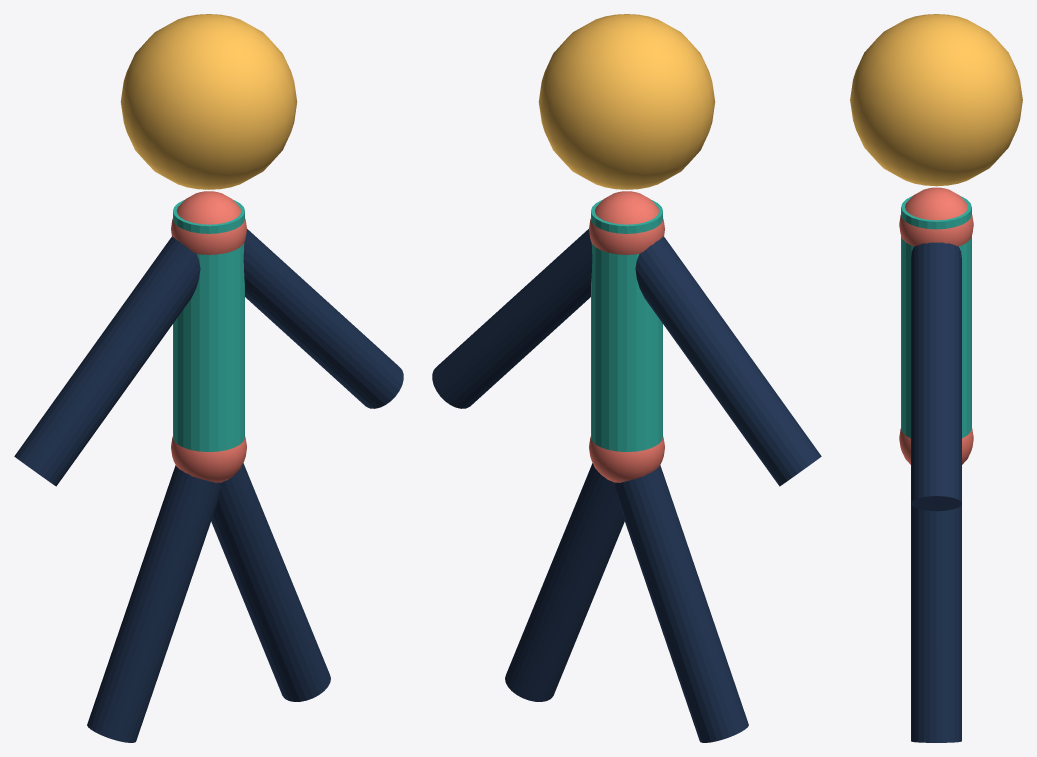
File: EDU009.glb
The picture shows the model from 3 angles, left to right: view 1: azimuth 30°, elevation 25°; view 2: azimuth 150°, elevation 25°; view 3: azimuth 270°, elevation 25°; orthographic projection. The views are drawn at different scales.
Parts seen in each view (by area): view 1: Head, L_Leg, L_Arm, Torso, R_Leg, R_Arm, L_Arm_joint, L_Leg_joint; view 2: Head, L_Leg, L_Arm, Torso, R_Leg, R_Arm, L_Arm_joint, L_Leg_joint; view 3: Head, R_Arm, R_Leg, Torso, L_Arm_joint, L_Leg_joint.
Part boxes in pixels (<box>): Head: <box>120,14,297,189</box>; L_Leg: <box>87,465,220,742</box>; L_Arm: <box>14,236,200,486</box>; Torso: <box>173,200,244,451</box>; R_Leg: <box>211,463,330,701</box>; R_Arm: <box>243,229,403,408</box>; L_Arm_joint: <box>171,191,246,254</box>; L_Leg_joint: <box>171,436,246,482</box>; Head: <box>538,14,715,189</box>; L_Leg: <box>615,465,748,742</box>; L_Arm: <box>635,236,821,486</box>; Torso: <box>591,200,662,451</box>; R_Leg: <box>505,463,624,701</box>; R_Arm: <box>432,229,592,408</box>; L_Arm_joint: <box>589,191,664,254</box>; L_Leg_joint: <box>589,436,664,482</box>; Head: <box>850,14,1022,186</box>; R_Arm: <box>911,242,961,511</box>; R_Leg: <box>911,504,961,742</box>; Torso: <box>901,196,971,438</box>; L_Arm_joint: <box>899,187,973,246</box>; L_Leg_joint: <box>899,428,973,464</box>.
Size of the model in its own units: 1.1 by 1.91 by 0.44.
